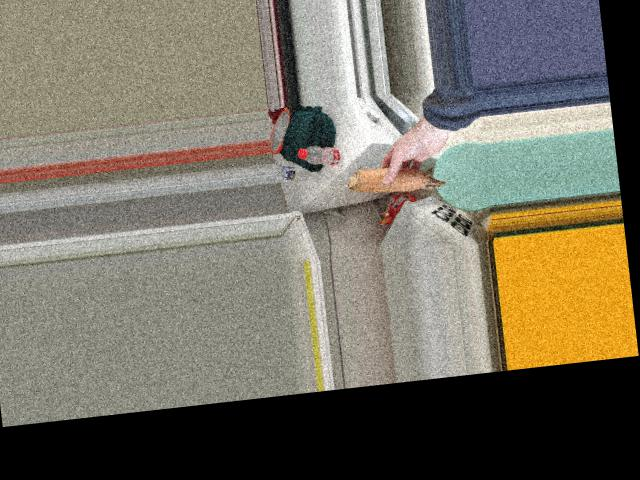sweet_potato: (341, 154, 448, 205)
